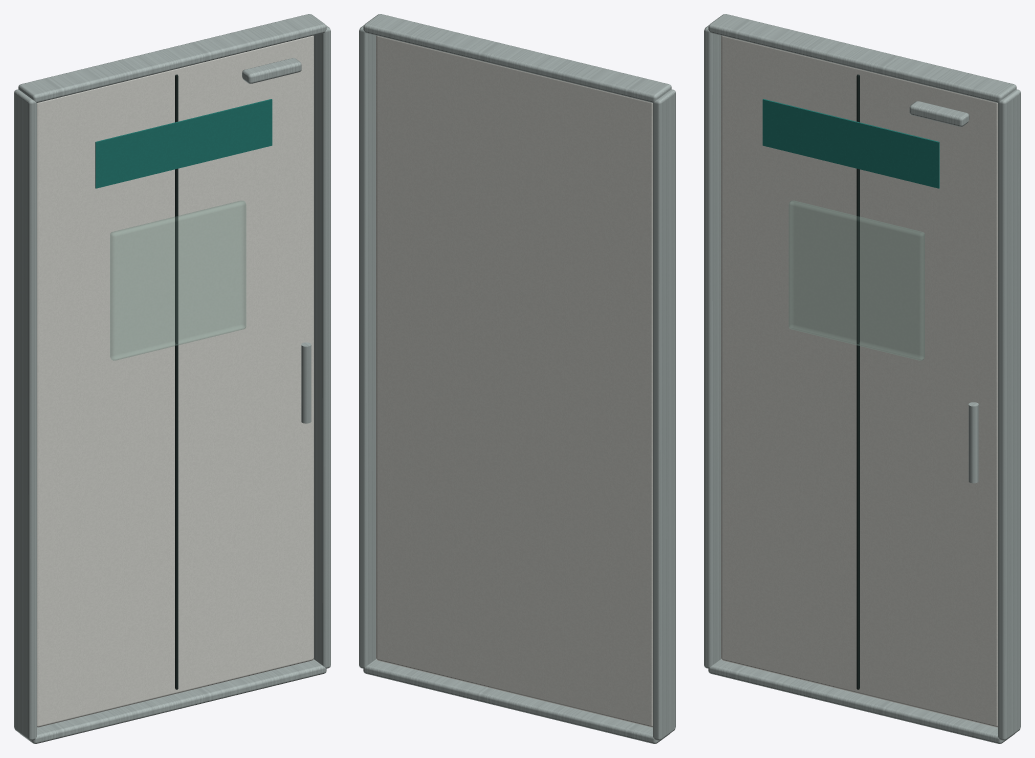
The model's file is detail-police-door-0.glb.
The picture shows the model from 3 angles, left to right: view 1: azimuth 30°, elevation 25°; view 2: azimuth 150°, elevation 25°; view 3: azimuth 330°, elevation 25°; orthographic projection.
Visible parts, largest first — view 1: door_panel, frame_side (×2), observation_window, frame_rail (×2), label_room_sign, door_seam, closer, pull_handle; view 2: door_panel, frame_side (×2), frame_rail (×2); view 3: door_panel, frame_side (×2), observation_window, frame_rail (×2), label_room_sign, door_seam, closer, pull_handle.
Part boxes in pixels (bbox=[...]): door_panel: bbox=[37, 35, 313, 727]; frame_side (×2): bbox=[14, 25, 330, 740]; observation_window: bbox=[110, 201, 245, 360]; frame_rail (×2): bbox=[18, 14, 326, 743]; label_room_sign: bbox=[95, 99, 272, 188]; door_seam: bbox=[175, 74, 178, 689]; closer: bbox=[242, 58, 301, 83]; pull_handle: bbox=[301, 342, 311, 423]; door_panel: bbox=[376, 35, 652, 727]; frame_side (×2): bbox=[359, 25, 675, 740]; frame_rail (×2): bbox=[363, 14, 671, 743]; door_panel: bbox=[721, 35, 997, 727]; frame_side (×2): bbox=[704, 25, 1020, 740]; observation_window: bbox=[789, 200, 924, 360]; frame_rail (×2): bbox=[708, 14, 1016, 743]; label_room_sign: bbox=[762, 99, 939, 188]; door_seam: bbox=[856, 74, 859, 689]; closer: bbox=[909, 101, 969, 126]; pull_handle: bbox=[968, 402, 978, 483].
Bounding box in the file's own units: 1.24 × 2.54 × 0.17.
Materials: 5 (4 with a texture image).
